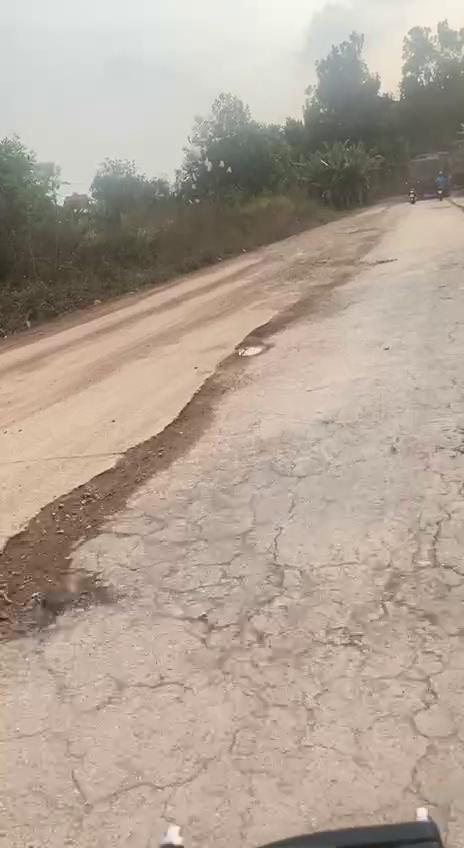pothole: (0, 436, 173, 639)
